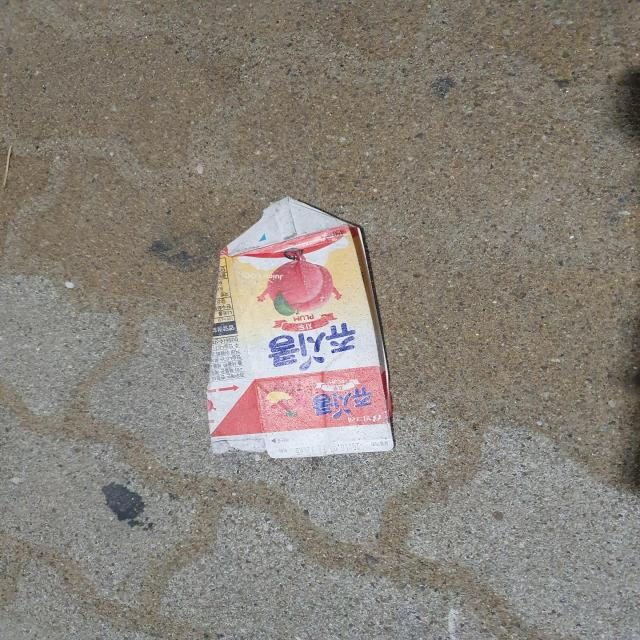paperpack: (206, 197, 394, 459)
